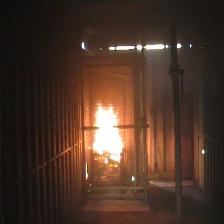fire: (88, 100, 126, 168)
